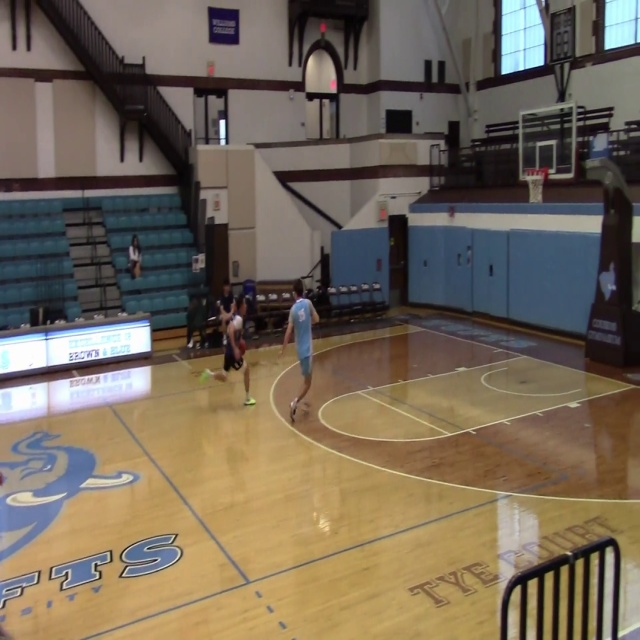Basketball: (213, 369, 228, 382), (232, 315, 243, 330), (237, 339, 247, 352), (0, 471, 5, 486)
